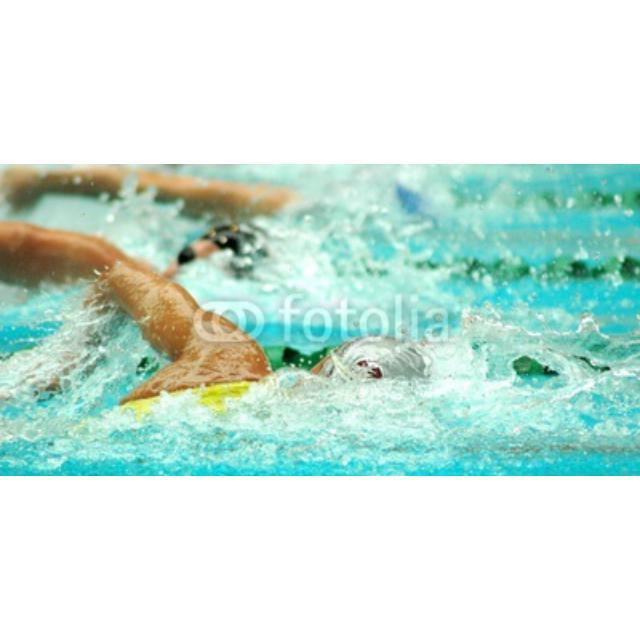human: (86, 263, 422, 416)
